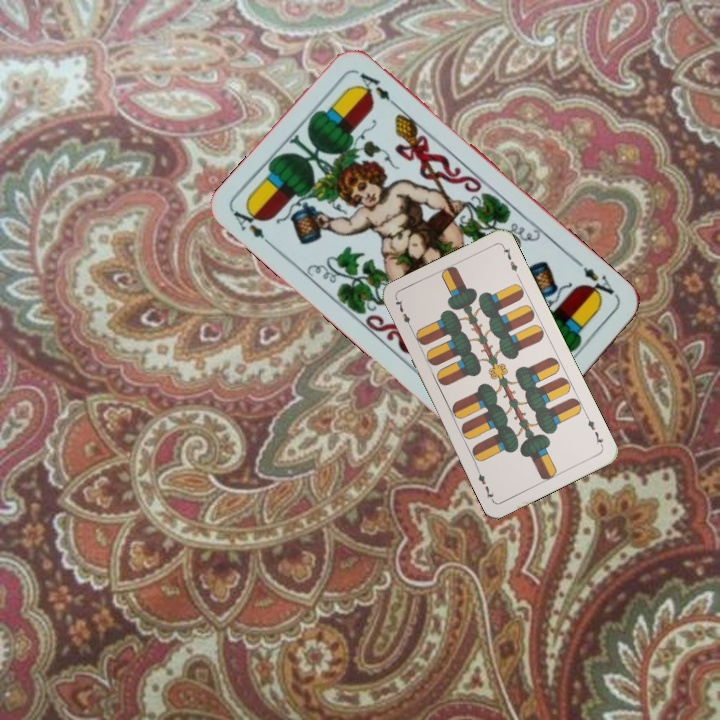E7: (582, 412, 606, 450), (391, 296, 415, 334)
EA: (229, 201, 277, 252), (573, 256, 617, 303)
